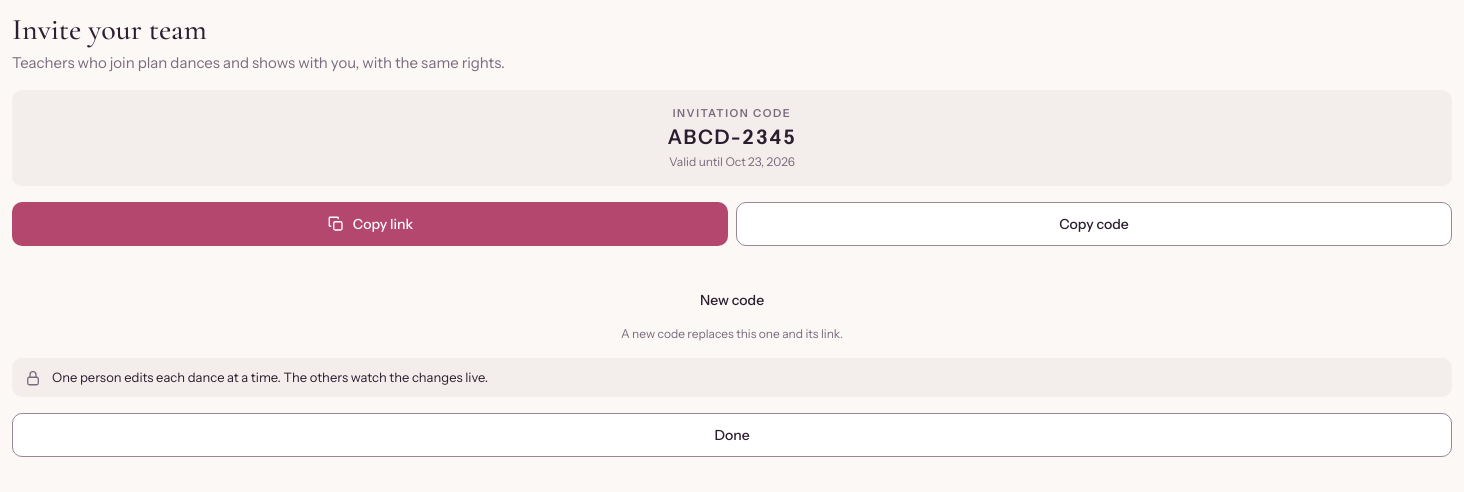
Test: with an active code › says so when copying fails
What coordinates should you click on to do the following:
click the button "Copy code"
I would click on:
 (1094, 224)
Its box is [736,202,1452,246].
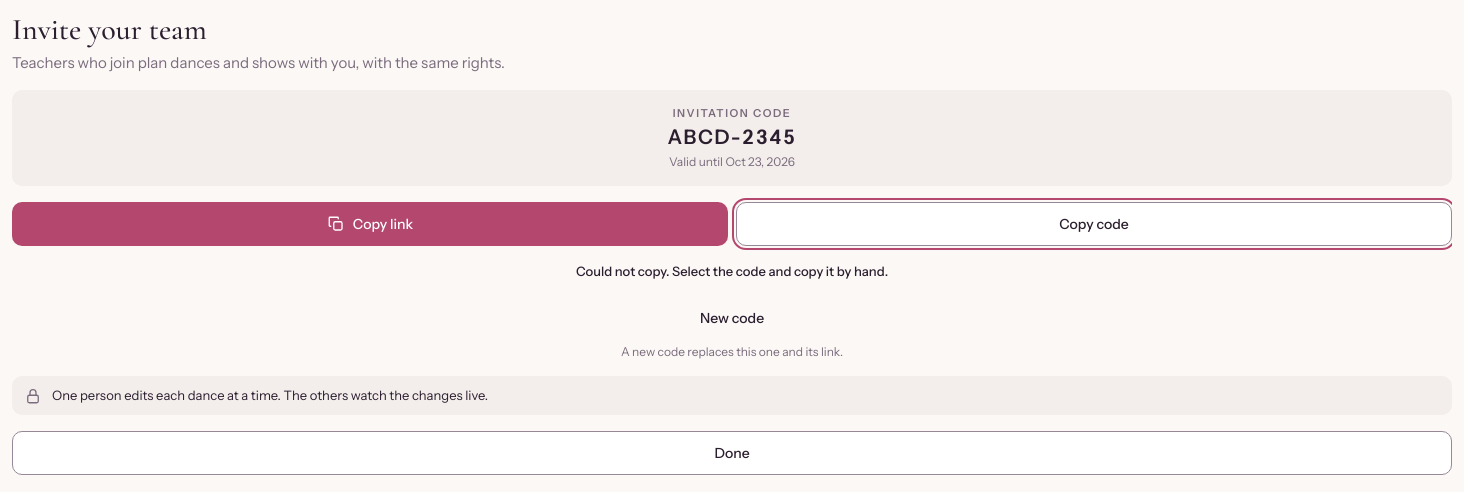
Expected: the message shows "Could not copy.", [576,263,888,279]
